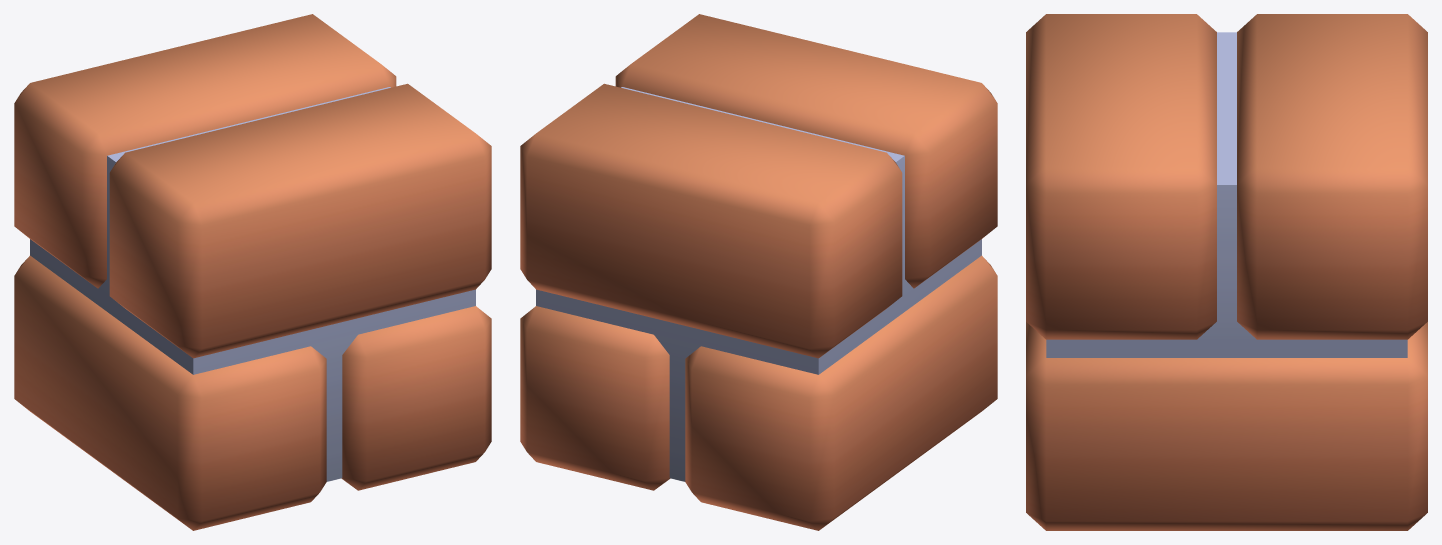
Rendered from brick.glb.
3 renders of one model, left to right at view 1: azimuth 30°, elevation 25°; view 2: azimuth 150°, elevation 25°; view 3: azimuth 270°, elevation 25°, orthographic. The views are drawn at different scales.
Visible parts, largest first — view 1: brick; view 2: brick; view 3: brick.
Part boxes in pixels (x1=…): brick: x1=14, y1=14, x2=491, y2=530; brick: x1=520, y1=14, x2=997, y2=530; brick: x1=1026, y1=14, x2=1427, y2=530.
Size of the model in its own units: 1 by 1 by 1.
1 material, 1 textured.
